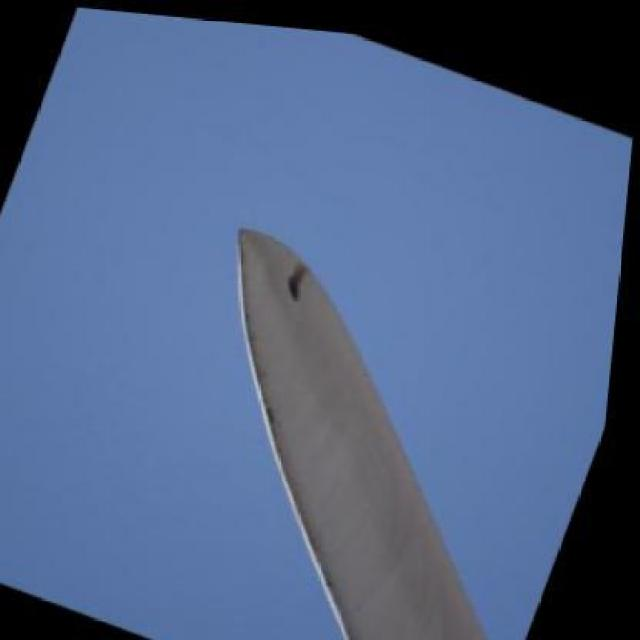Burn Mark: (284, 254, 313, 295)
EROSION: (240, 315, 290, 455)
